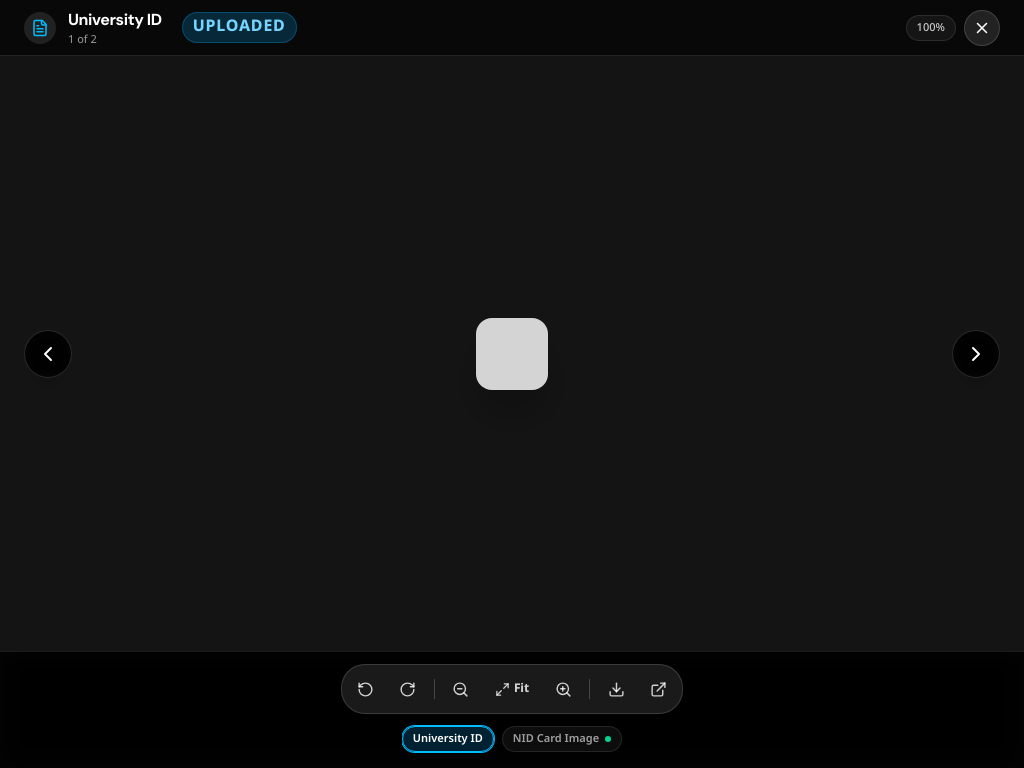
Test: DocumentLightboxModal › supports zooming in, zooming out, and resetting zoom
Expected: the text "100%" is shown, [917,20,945,36]
What coordinates should you click on to do the following:
click the button named "Zoom in"
I would click on:
 (563, 689)
Its box is [545,671,581,707].
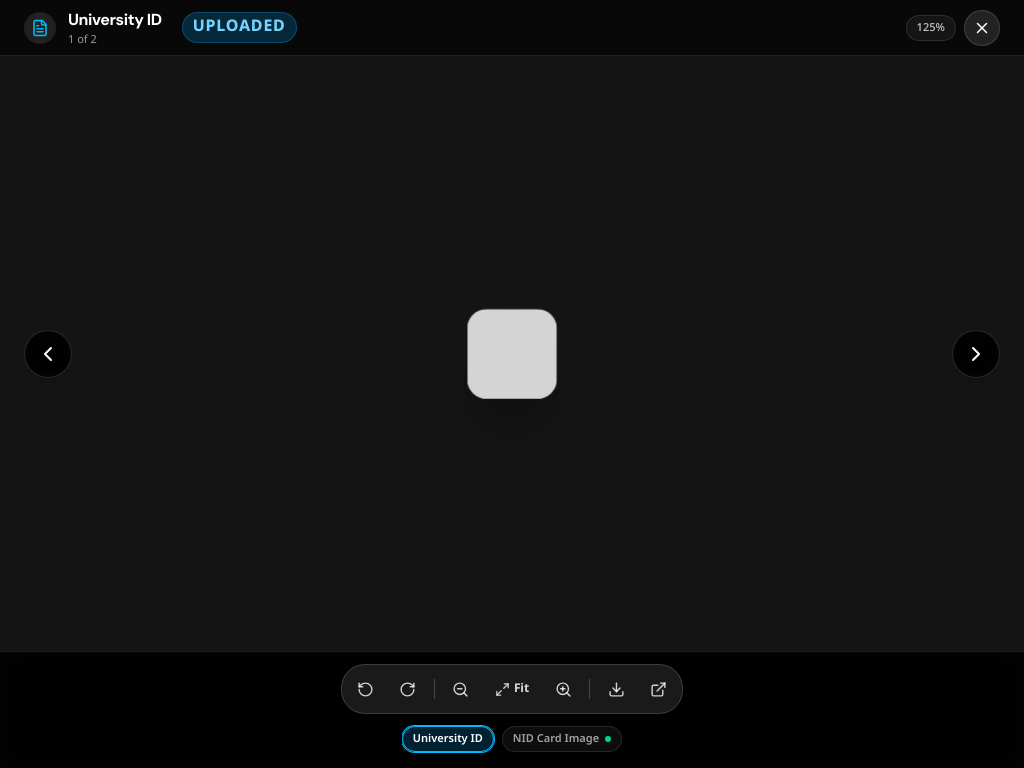
Now the text "125%" is shown, box [917,20,945,36]
What coordinates should you click on to do the following:
click the button named "Zoom out"
I would click on:
 (461, 689)
Its box is [443,671,479,707].
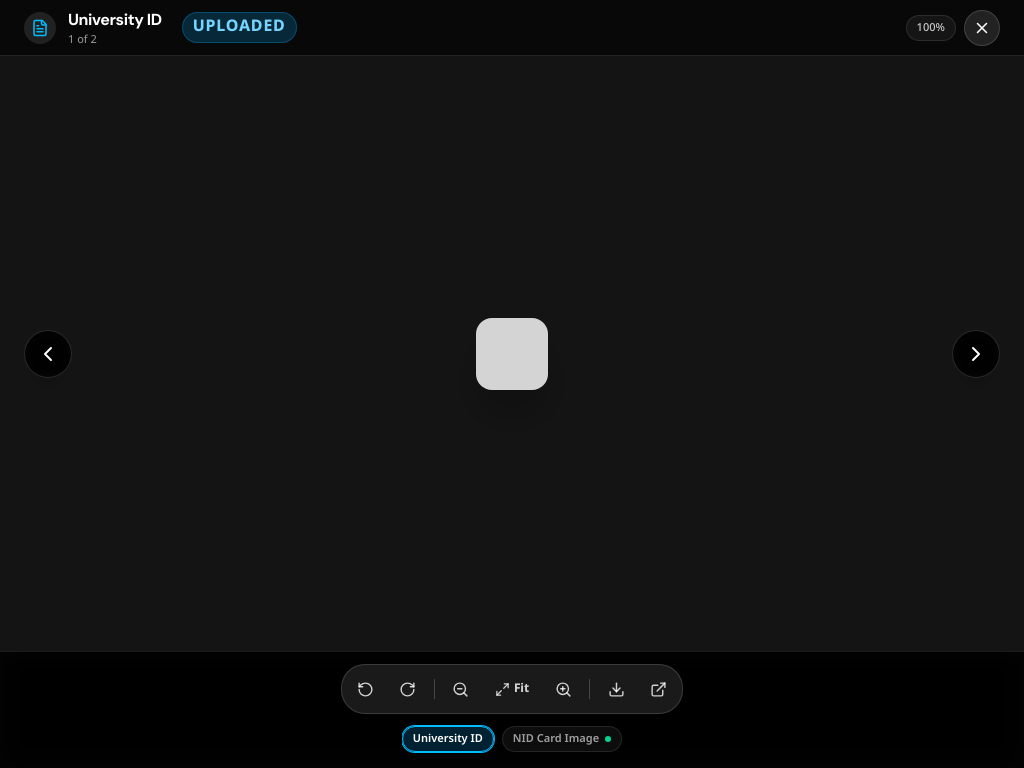
Now the text "100%" is shown, box [917,20,945,36]
// Zoom in twice then reset
What coordinates should you click on to do the following:
click the button named "Zoom in"
I would click on:
 (563, 689)
Its box is [545,671,581,707].
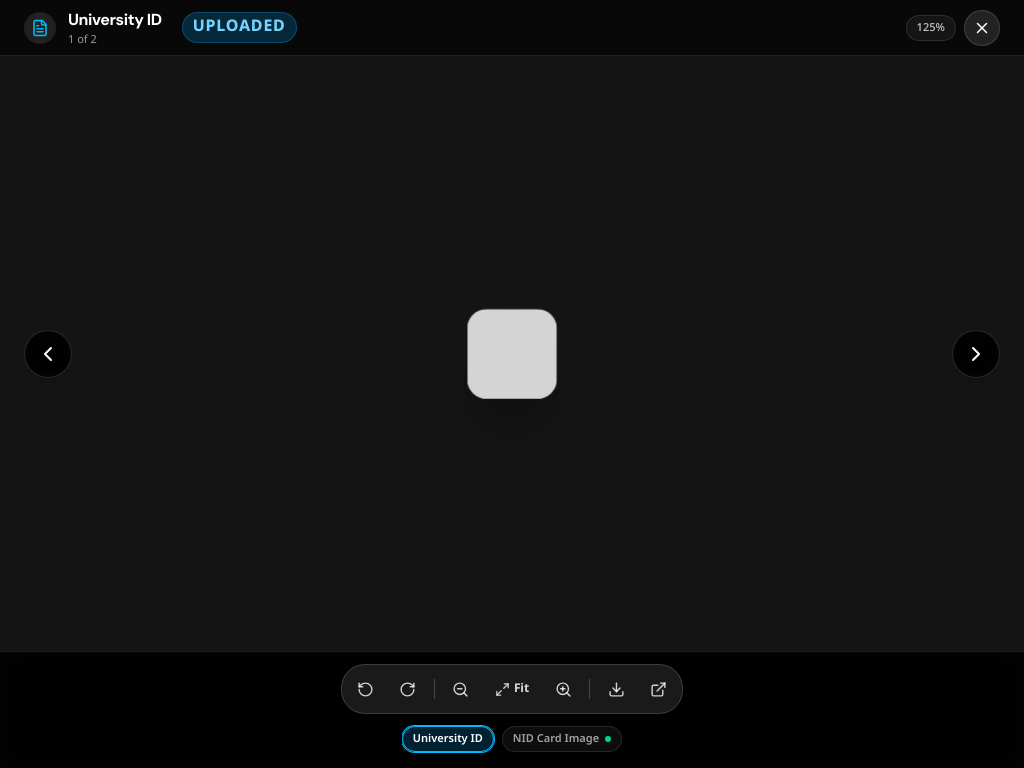
What coordinates should you click on to do the following:
click the button named "Zoom in"
I would click on:
 (563, 689)
Its box is [545,671,581,707].
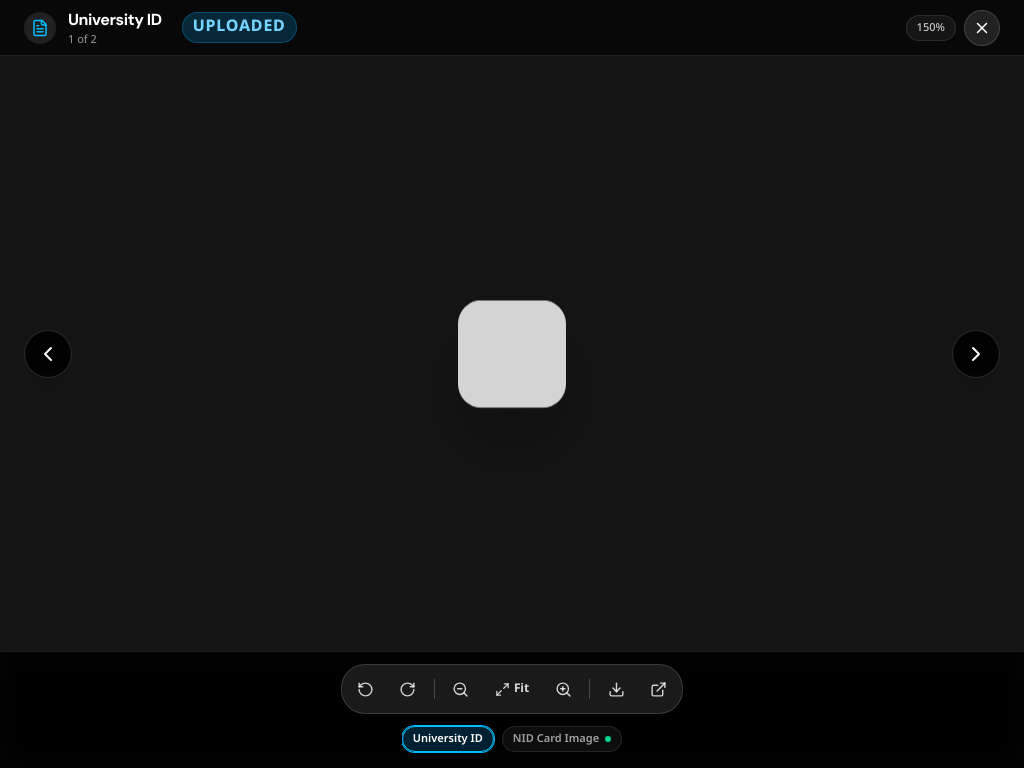
Now the text "150%" is shown, box [917,20,945,36]
What coordinates should you click on to do the following:
click the button with aria-label "Reset zoom and rotation"
I would click on:
 (512, 689)
Its box is [485,671,539,707].
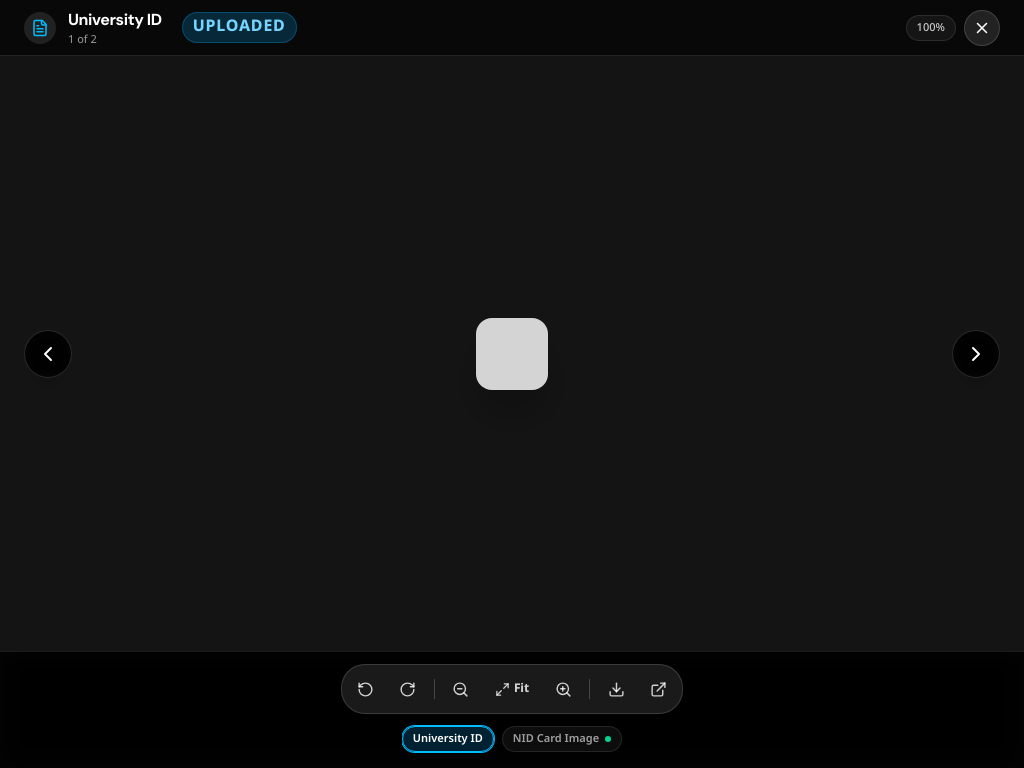
Now the text "100%" is shown, box [917,20,945,36]
